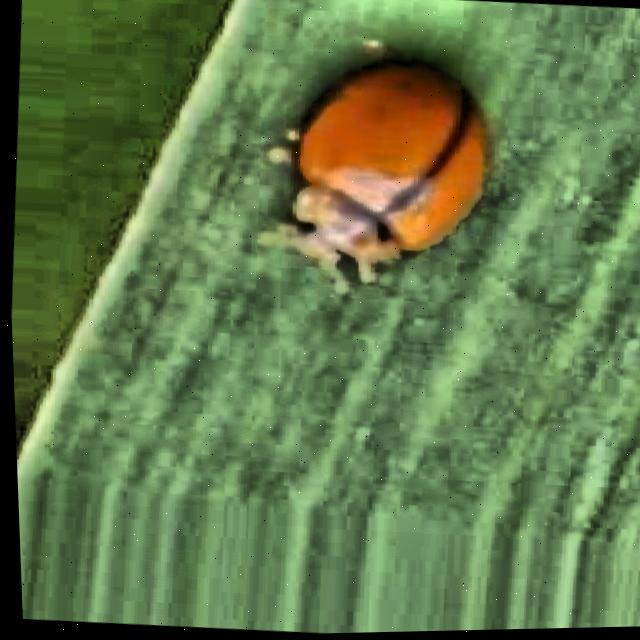Ladybug: (232, 0, 538, 361)
